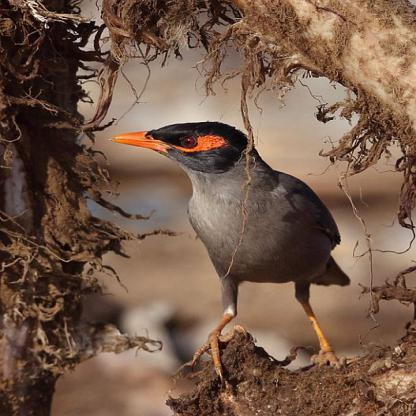Burung: (111, 123, 354, 370)
